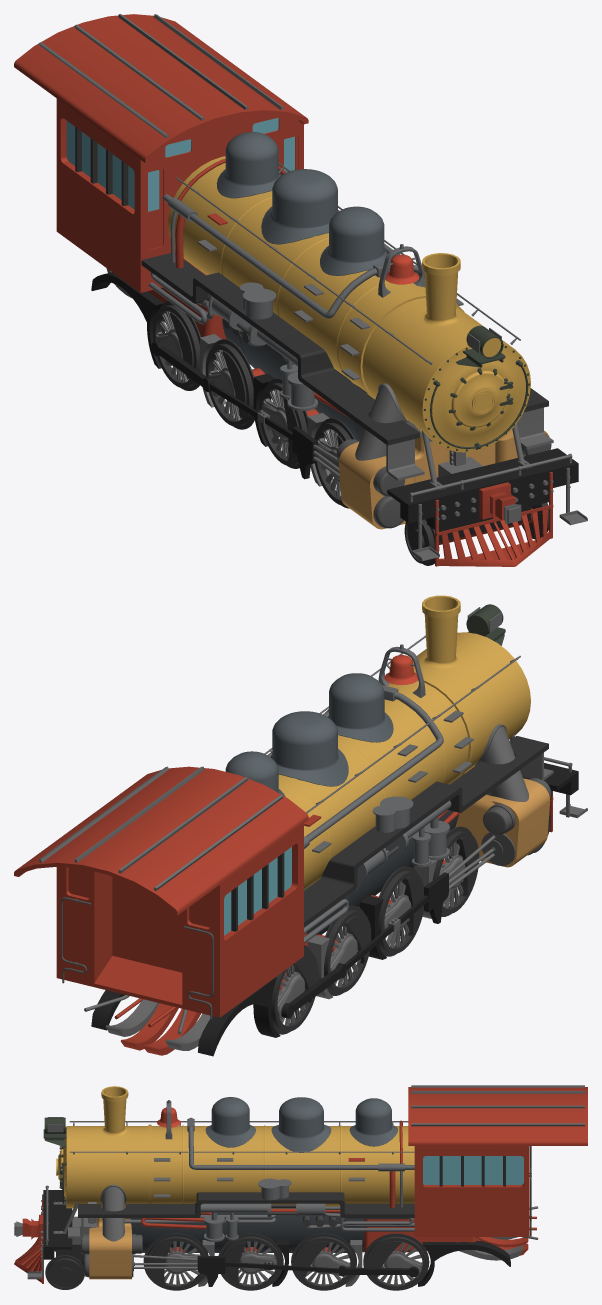
The model's file is train6.fbx.
3 views of the same model, one above another, from view 1: azimuth 30°, elevation 25°; view 2: azimuth 150°, elevation 25°; view 3: azimuth 270°, elevation 25° (orthographic). The views are drawn at different scales.
Parts seen in each view (by area): view 1: Train.001; view 2: Train.001; view 3: Train.001.
Boxes of the visible parts, bbox=[...] form: Train.001: bbox=[14, 14, 587, 566]; Train.001: bbox=[14, 595, 587, 1056]; Train.001: bbox=[14, 1085, 587, 1290].
Size of the model in its own units: 298 by 416 by 1201.
Materials: 1 (1 with a texture image).
